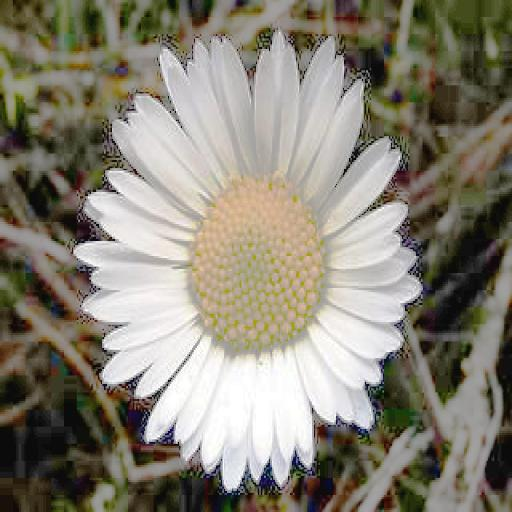daisy: (85, 38, 419, 476)
